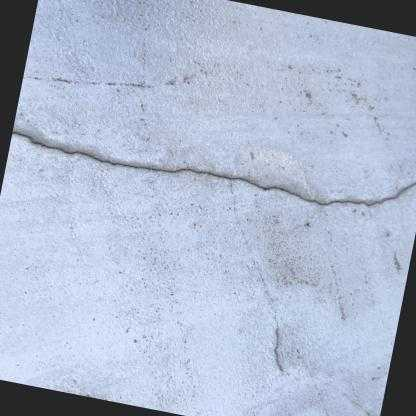crack: (11, 132, 416, 205)
